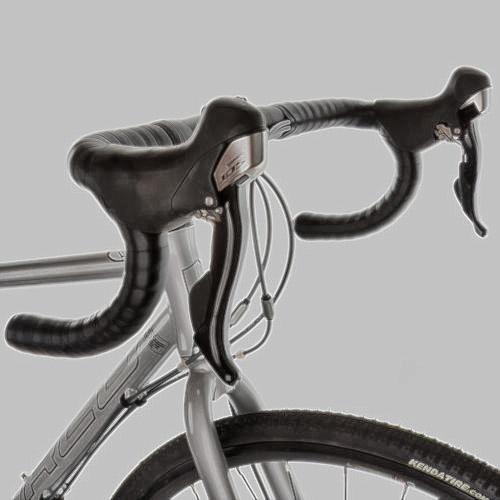bicycle: (27, 90, 476, 480)
